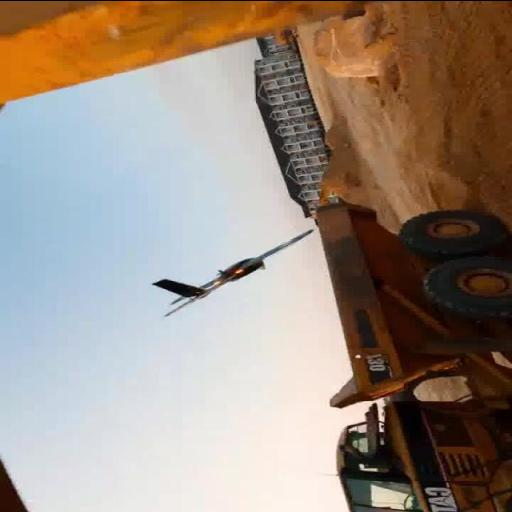uav: (141, 226, 316, 320)
